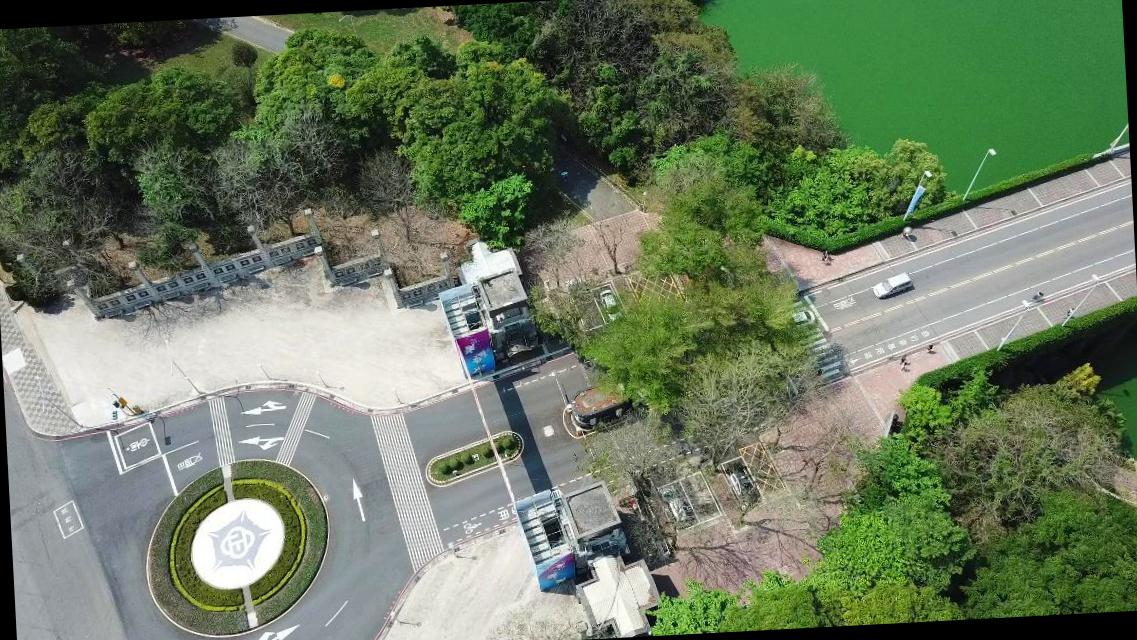vehicle: (658, 482, 690, 528), (726, 460, 757, 506), (872, 272, 913, 299), (596, 288, 624, 324), (790, 309, 816, 329)
